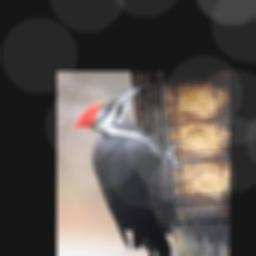Woodpecker: (71, 85, 182, 256)
